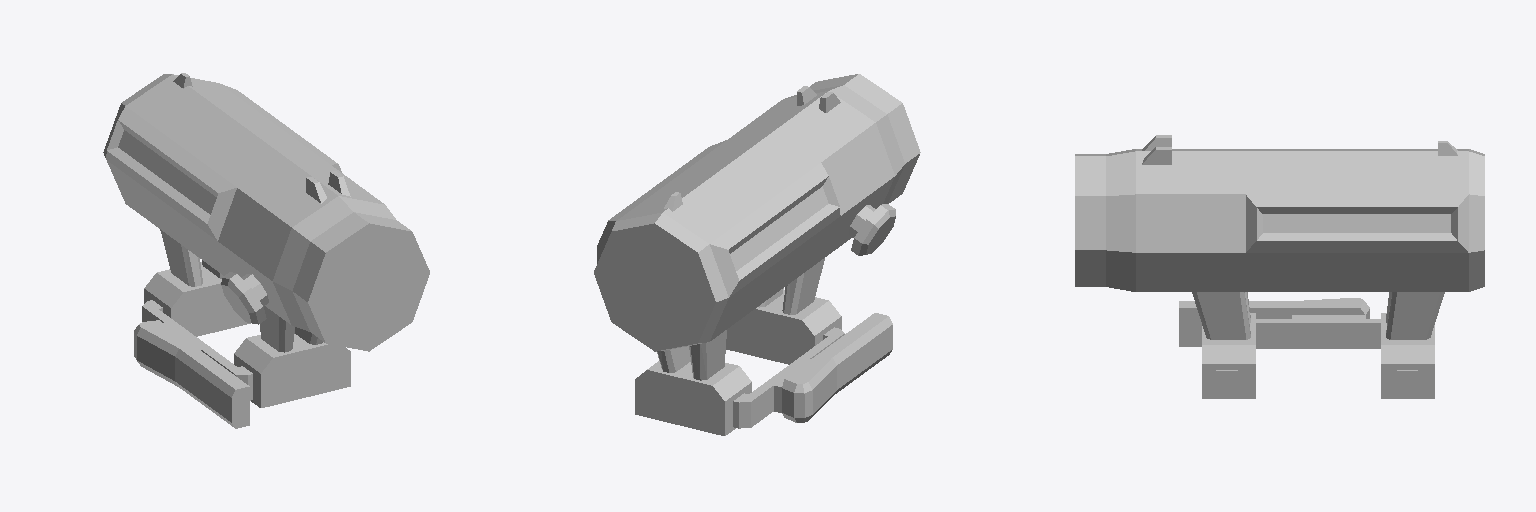
Rendered from Magnified_West.obj.
3 views of the same model, side by side, from view 1: azimuth 30°, elevation 25°; view 2: azimuth 150°, elevation 25°; view 3: azimuth 270°, elevation 25° (orthographic).
Parts seen in each view (by area): view 1: Magnified_West; view 2: Magnified_West; view 3: Magnified_West.
Part boxes in pixels (left/top/right/bottom): Magnified_West: left=103, top=73, right=429, bottom=428; Magnified_West: left=594, top=74, right=920, bottom=435; Magnified_West: left=1075, top=135, right=1484, bottom=398.
Bounding box in the file's own units: 0.0539 × 0.0746 × 0.1166.